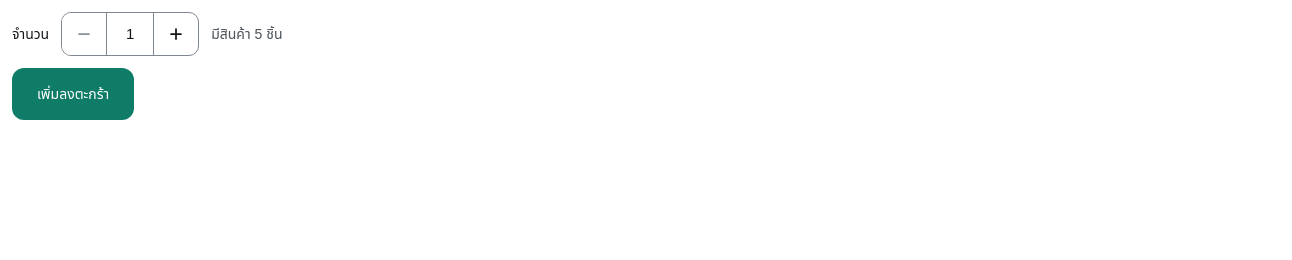
AddToCart › shows a sign-in link back to the product when the session is missing
The width and height of the screenshot is (1292, 260).
Click the button "เพิ่มลงตะกร้า" at coordinates (73, 94), box left=12, top=68, right=134, bottom=120
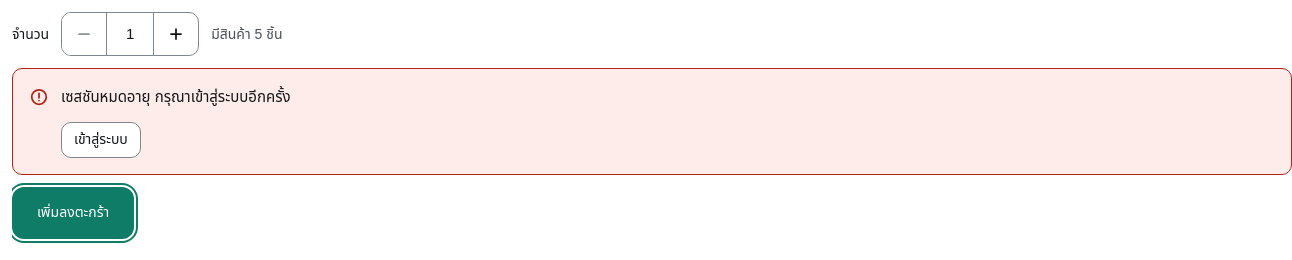
Now the text "เซสชันหมดอายุ กรุณาเข้าสู่ระบบอีกครั้ง" is shown, box left=61, top=88, right=290, bottom=105
